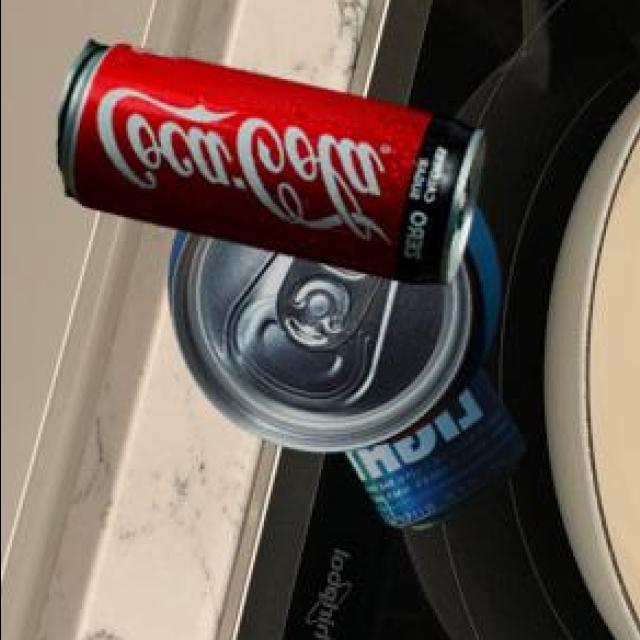logam: (60, 45, 488, 288), (170, 207, 503, 455), (347, 372, 527, 532)
